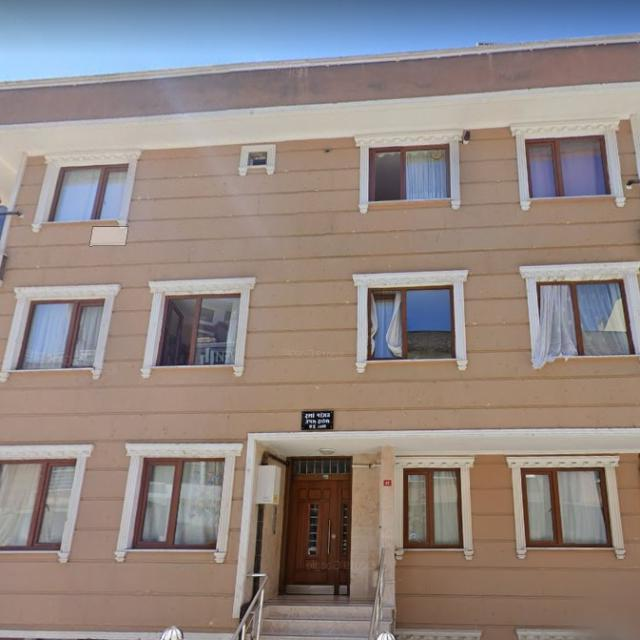Building: (0, 33, 640, 640)
